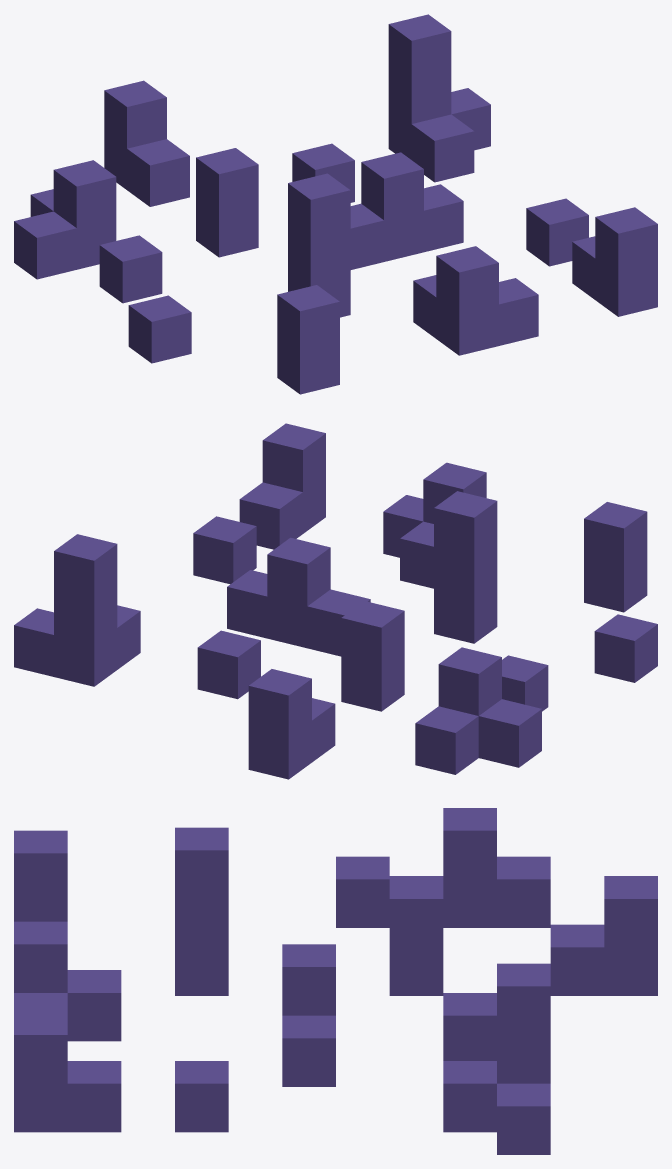
Rendered from LunaGrass1.obj.
The picture shows the model from 3 angles, top to bottom: view 1: azimuth 30°, elevation 25°; view 2: azimuth 150°, elevation 25°; view 3: azimuth 270°, elevation 25°; orthographic projection. The views are drawn at different scales.
Parts seen in each view (by area): view 1: LunaGrass1; view 2: LunaGrass1; view 3: LunaGrass1.
Boxes of the visible parts, left/top/right/bottom form: LunaGrass1: left=14, top=14, right=657, bottom=394; LunaGrass1: left=14, top=423, right=657, bottom=779; LunaGrass1: left=14, top=808, right=657, bottom=1154.
Size of the model in its own units: 12 by 3 by 12.
1 material, 1 textured.
